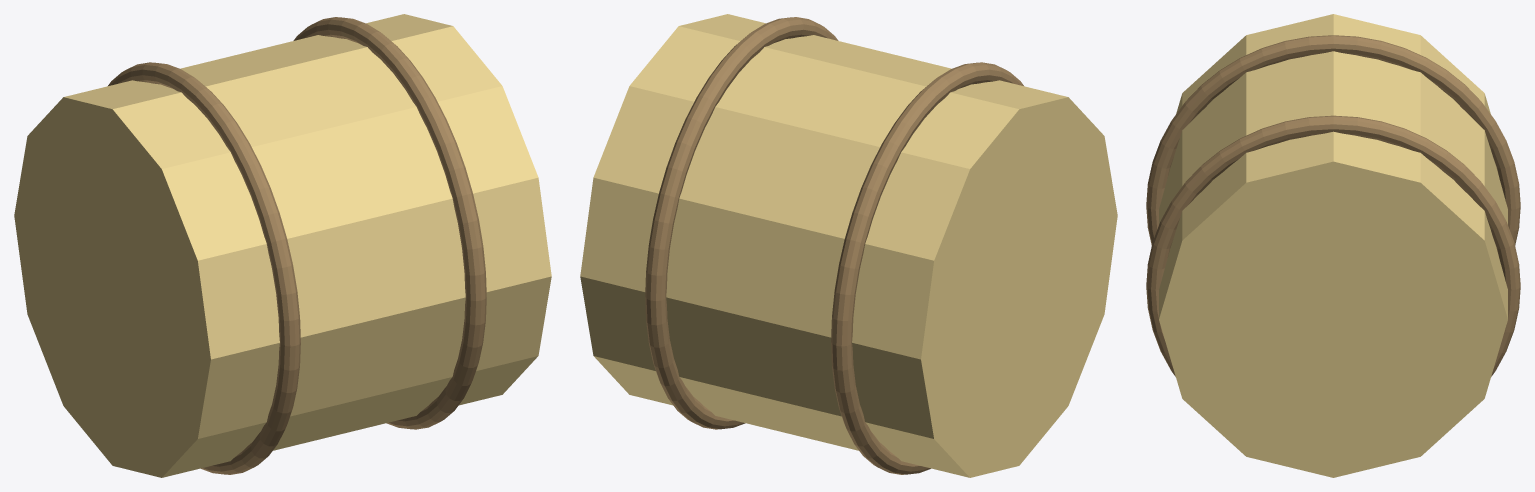
File: haybale.glb
3 renders of one model, left to right at view 1: azimuth 30°, elevation 25°; view 2: azimuth 150°, elevation 25°; view 3: azimuth 270°, elevation 25°, orthographic. The views are drawn at different scales.
Visible parts, largest first — view 1: Cylinder, Torus.002, Torus.001; view 2: Cylinder, Torus.002, Torus.001; view 3: Cylinder, Torus.002, Torus.001.
Part boxes in pixels (<box>): Cylinder: <box>14,14,551,477</box>; Torus.002: <box>293,17,486,429</box>; Torus.001: <box>108,62,300,474</box>; Cylinder: <box>580,14,1117,477</box>; Torus.002: <box>645,17,838,429</box>; Torus.001: <box>831,62,1023,474</box>; Cylinder: <box>1159,14,1507,477</box>; Torus.002: <box>1146,115,1520,376</box>; Torus.001: <box>1146,35,1520,245</box>.
Bounding box in the file's own units: 1.1 × 1.18 × 1.18.
